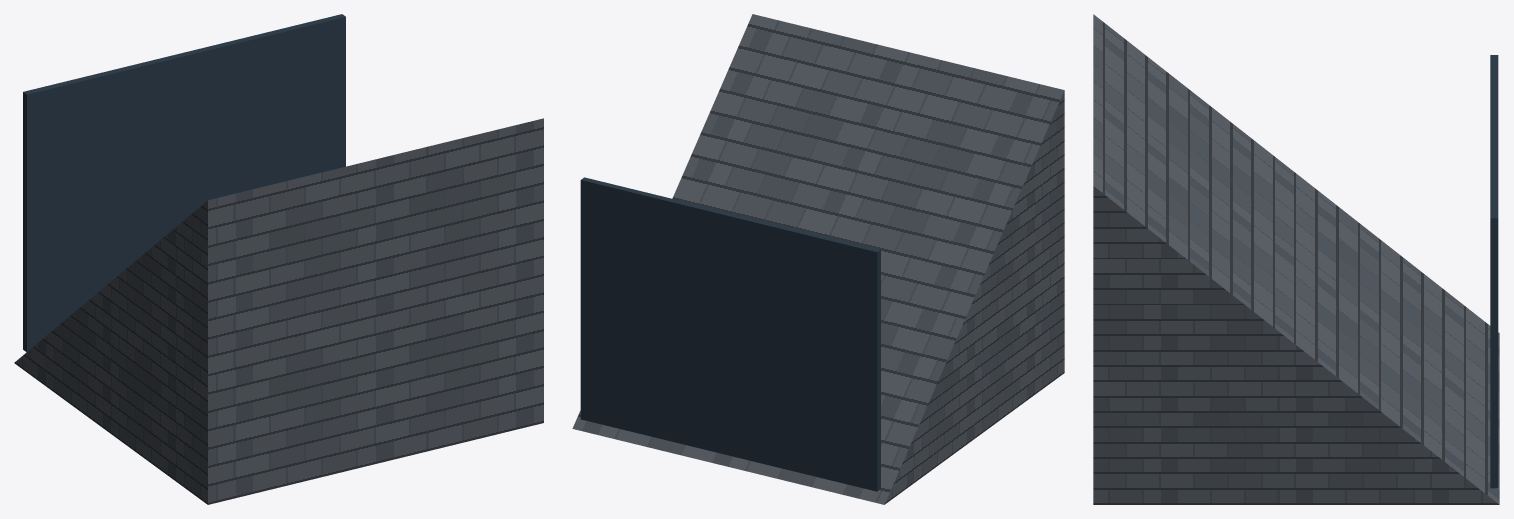
Rendered from roof-saw-bay.obj.
3 views of the same model, side by side, from view 1: azimuth 30°, elevation 25°; view 2: azimuth 150°, elevation 25°; view 3: azimuth 270°, elevation 25° (orthographic). The views are drawn at different scales.
Parts seen in each view (by area): view 1: part1, part2.nocast; view 2: part1, part2.nocast; view 3: part1, part2.nocast.
Boxes of the visible parts, x1,y1,x2,y2 form: part1: (14,118,543,504); part2.nocast: (23,14,345,352); part1: (572,14,1064,504); part2.nocast: (580,177,880,491); part1: (1093,14,1499,504); part2.nocast: (1490,55,1498,488).
Bounding box in the file's own units: 3 × 2.6 × 3.
2 materials, 1 textured.
